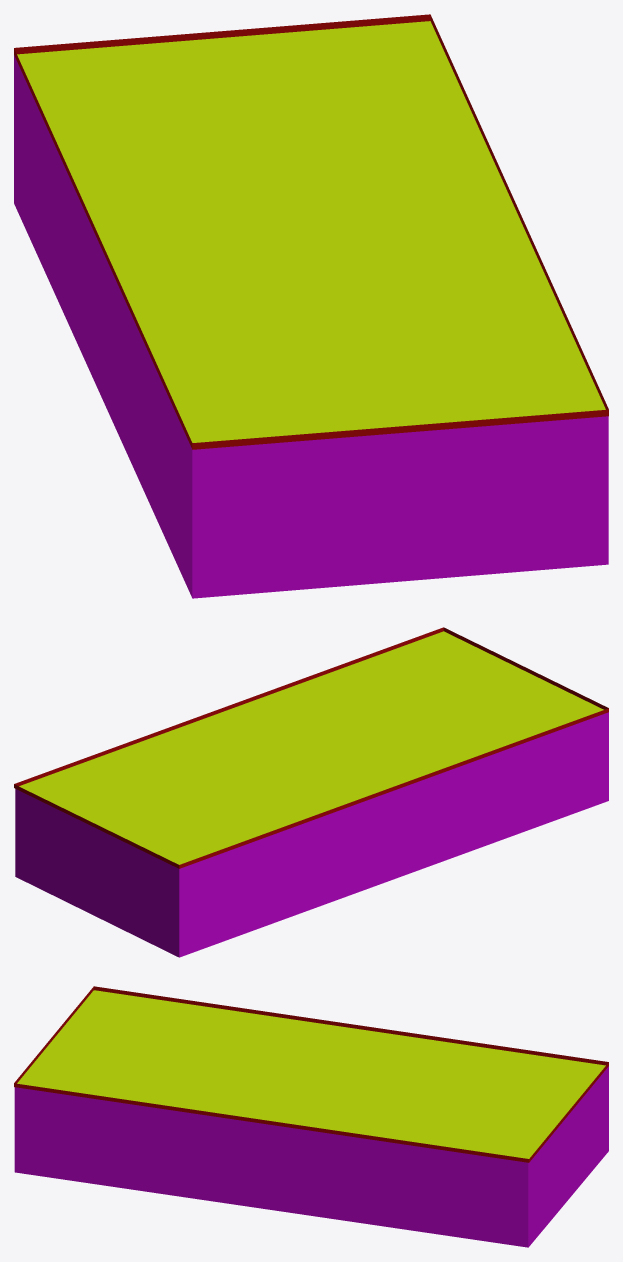
File: rmc_36.glb
The picture shows the model from 3 angles, top to bottom: view 1: azimuth 30°, elevation 25°; view 2: azimuth 150°, elevation 25°; view 3: azimuth 270°, elevation 25°; orthographic projection. The views are drawn at different scales.
Parts seen in each view (by area): view 1: rmc_36; view 2: rmc_36; view 3: rmc_36.
Boxes of the visible parts, bbox=[...] form: rmc_36: bbox=[14, 14, 608, 598]; rmc_36: bbox=[14, 627, 608, 957]; rmc_36: bbox=[14, 986, 608, 1247].
Size of the model in its own units: 33.82 by 8.13 by 49.22.
